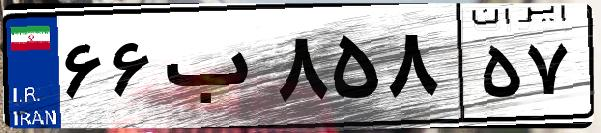5: (330, 28, 385, 110), (475, 38, 525, 113)
6: (57, 26, 110, 100), (110, 28, 158, 98)
7: (525, 38, 570, 115)
8: (270, 28, 330, 110), (385, 28, 445, 110)
ب: (158, 20, 270, 120)
